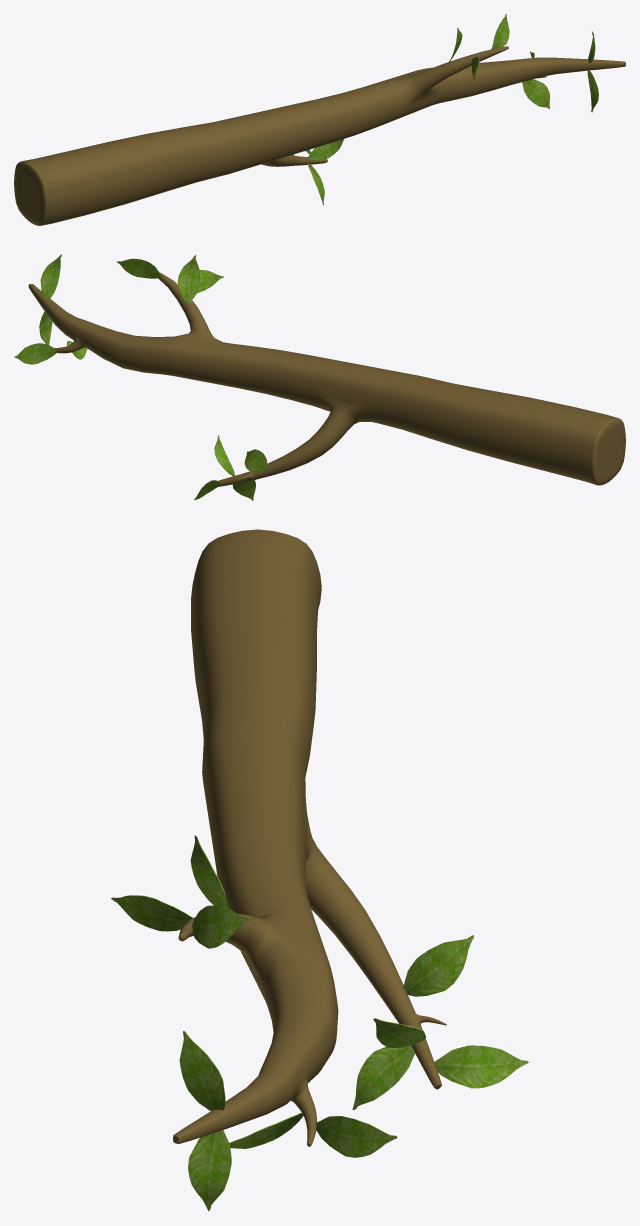
The model's file is Branch_Summer.fbx.
3 views of the same model, one above another, from view 1: azimuth 30°, elevation 25°; view 2: azimuth 150°, elevation 25°; view 3: azimuth 270°, elevation 25° (orthographic). The views are drawn at different scales.
Visible parts, largest first — view 1: pCube1, pPlane159; view 2: pCube1, pPlane159; view 3: pCube1, pPlane159.
Boxes of the visible parts, x1=… form: pCube1: x1=14, y1=46, x2=625, y2=225; pPlane159: x1=306, y1=14, x2=598, y2=205; pCube1: x1=28, y1=272, x2=625, y2=486; pPlane159: x1=14, y1=254, x2=268, y2=500; pCube1: x1=173, y1=529, x2=446, y2=1146; pPlane159: x1=111, y1=835, x2=528, y2=1211.
Size of the model in its own units: 23.42 by 7.11 by 7.34.
